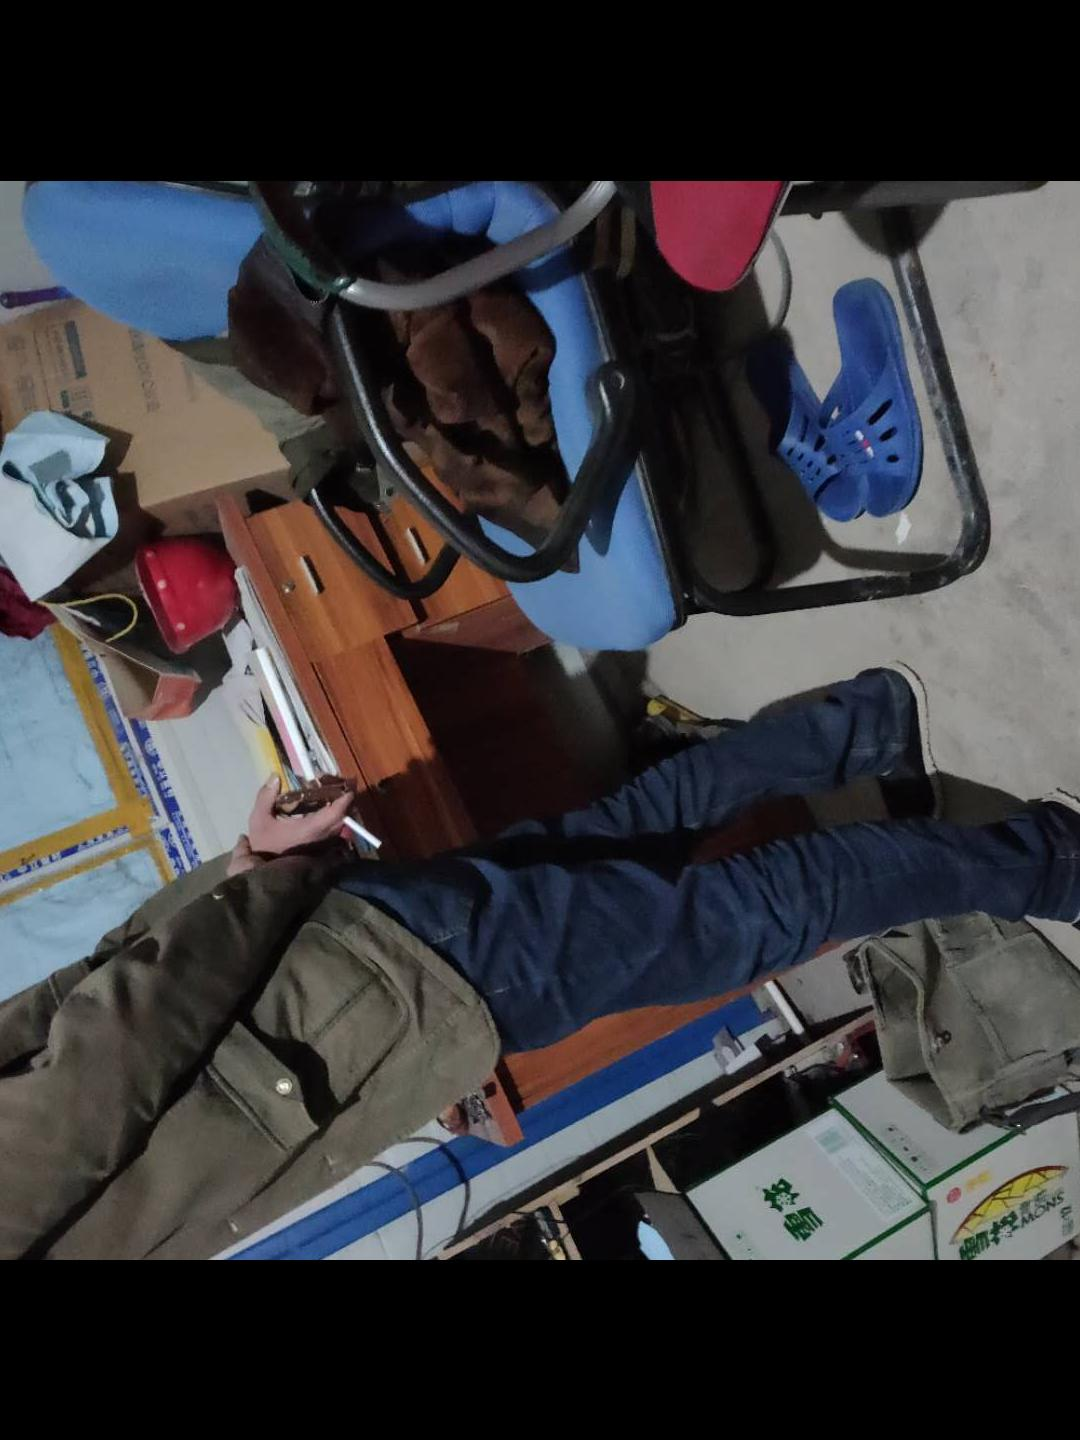Cigarette: (331, 812, 386, 850)
